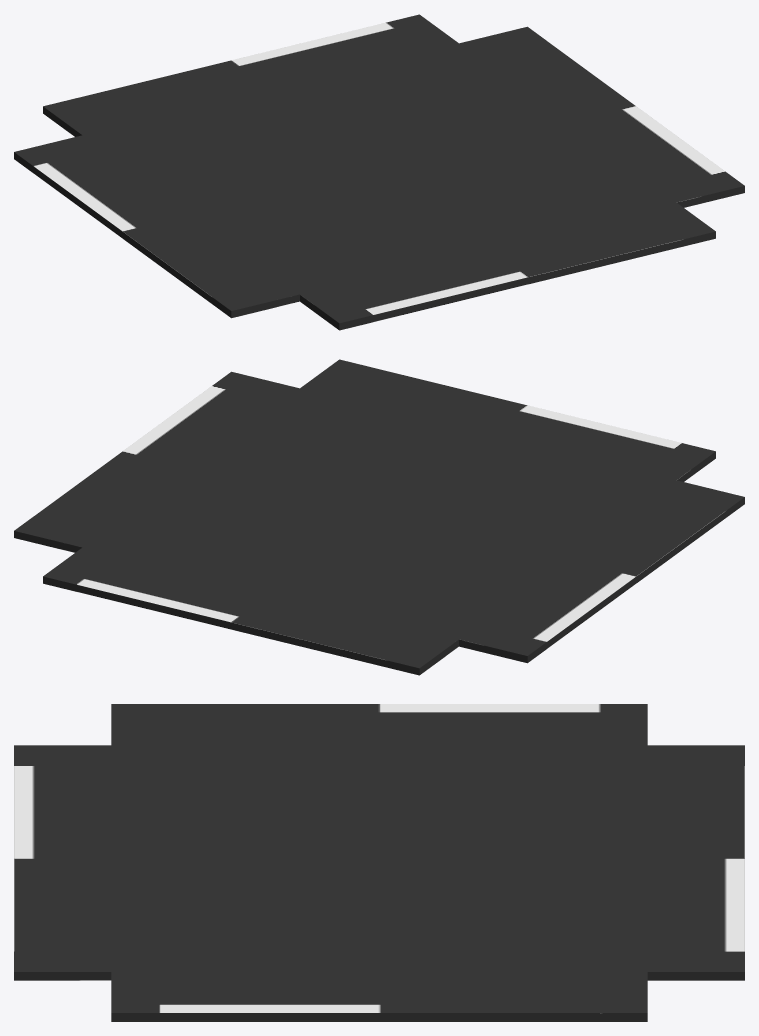
The model's file is intersection.dae.
3 views of the same model, one above another, from view 1: azimuth 30°, elevation 25°; view 2: azimuth 150°, elevation 25°; view 3: azimuth 270°, elevation 25° (orthographic). The views are drawn at different scales.
Parts seen in each view (by area): view 1: Box002, Box001; view 2: Box002, Box001; view 3: Box002, Box001.
Part boxes in pixels (x1,y1,x2,y2): Box002: (14, 26, 744, 318); Box001: (43, 14, 715, 330); Box002: (14, 371, 744, 663); Box001: (43, 359, 715, 675); Box002: (111, 704, 647, 1021); Box001: (14, 745, 744, 980).
Bounding box in the file's own units: 591 × 591 × 7.87.
